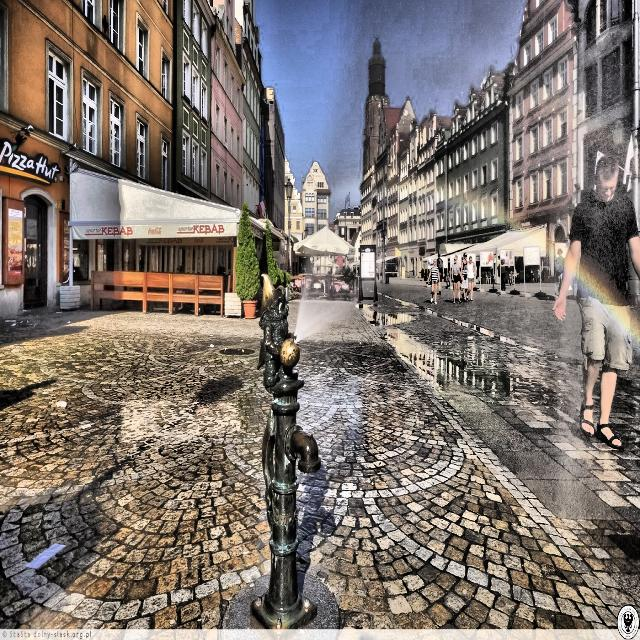Orzezwiacz: (251, 275, 321, 630)
